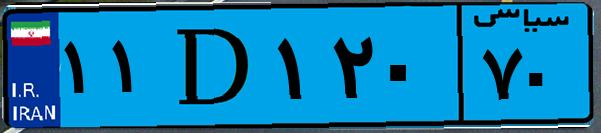0: (385, 28, 445, 110), (525, 38, 570, 115)
1: (270, 28, 330, 110), (57, 26, 110, 100), (110, 28, 158, 98)
2: (330, 28, 385, 110)
7: (475, 38, 525, 113)
D: (158, 12, 270, 120)
